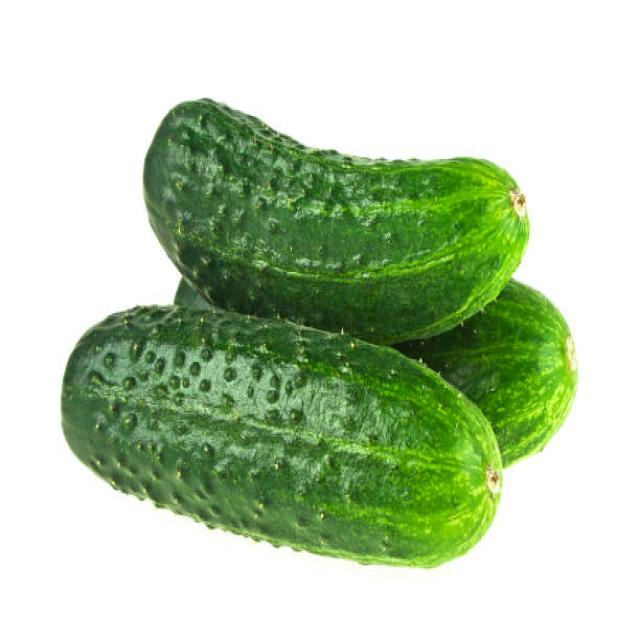cucumber: (60, 302, 500, 564), (140, 96, 530, 344)
